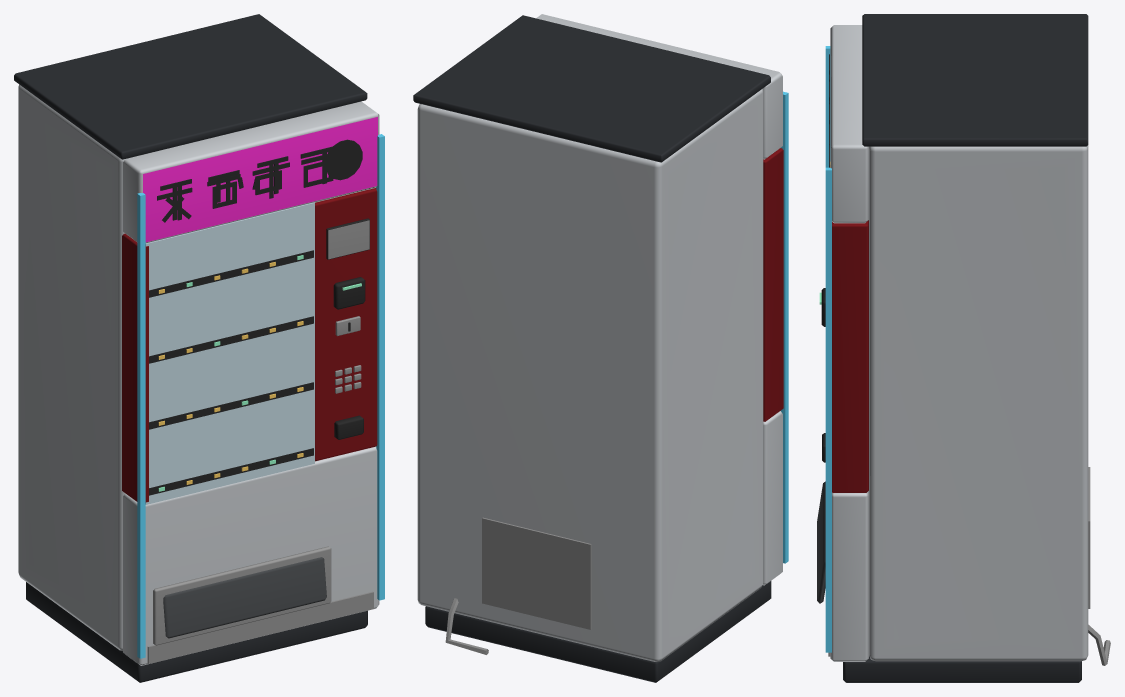
File: Vending_Machine_Drinks.fbx
3 renders of one model, left to right at view 1: azimuth 30°, elevation 25°; view 2: azimuth 150°, elevation 25°; view 3: azimuth 270°, elevation 25°, orthographic. The views are drawn at different scales.
Parts seen in each view (by area): view 1: Vending_Machine_Drinks_LOD0; view 2: Vending_Machine_Drinks_LOD0; view 3: Vending_Machine_Drinks_LOD0.
Part boxes in pixels (left/top/right/bottom): Vending_Machine_Drinks_LOD0: left=14, top=14, right=384, bottom=682; Vending_Machine_Drinks_LOD0: left=413, top=14, right=788, bottom=682; Vending_Machine_Drinks_LOD0: left=817, top=14, right=1110, bottom=682.
Size of what is drawn, in the model's own units: 0.92 by 1.88 by 0.9105.
